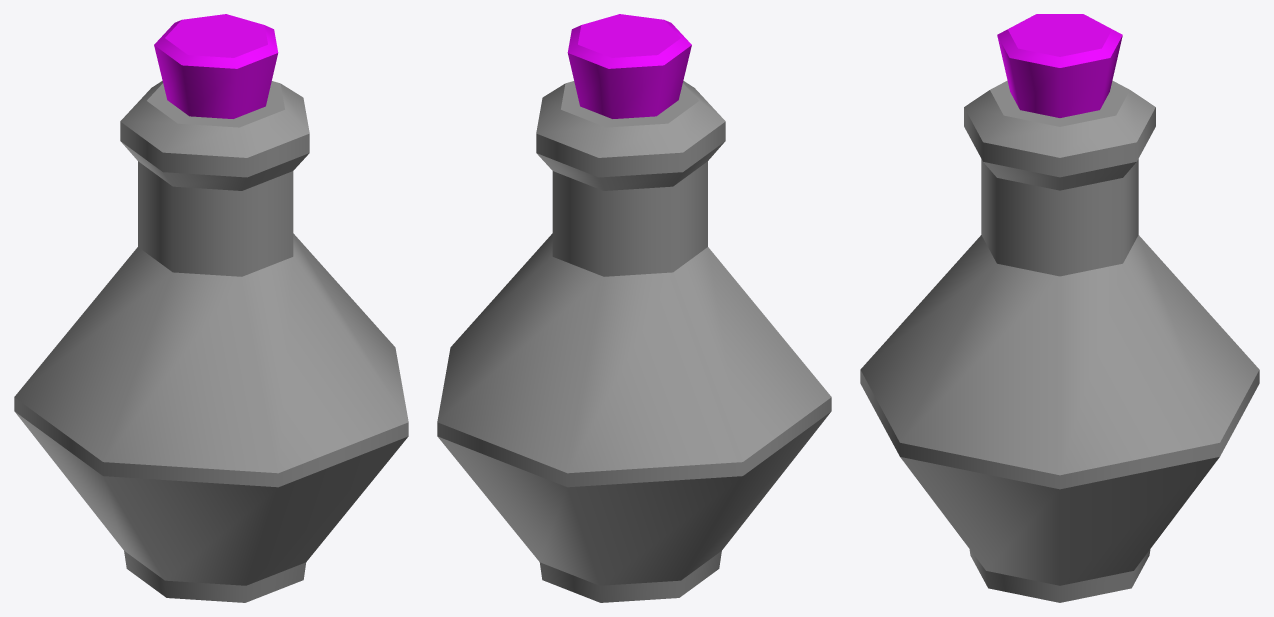
File: potion3.FBX
3 views of the same model, side by side, from view 1: azimuth 30°, elevation 25°; view 2: azimuth 150°, elevation 25°; view 3: azimuth 270°, elevation 25° (orthographic).
Parts seen in each view (by area): view 1: Potion3; view 2: Potion3; view 3: Potion3.
Part boxes in pixels (box(x1,y1,x2,y2)): Potion3: box(14, 14, 408, 602); Potion3: box(437, 14, 831, 602); Potion3: box(860, 14, 1259, 602).
Bounding box in the file's own units: 17.89 × 26.88 × 18.35.
